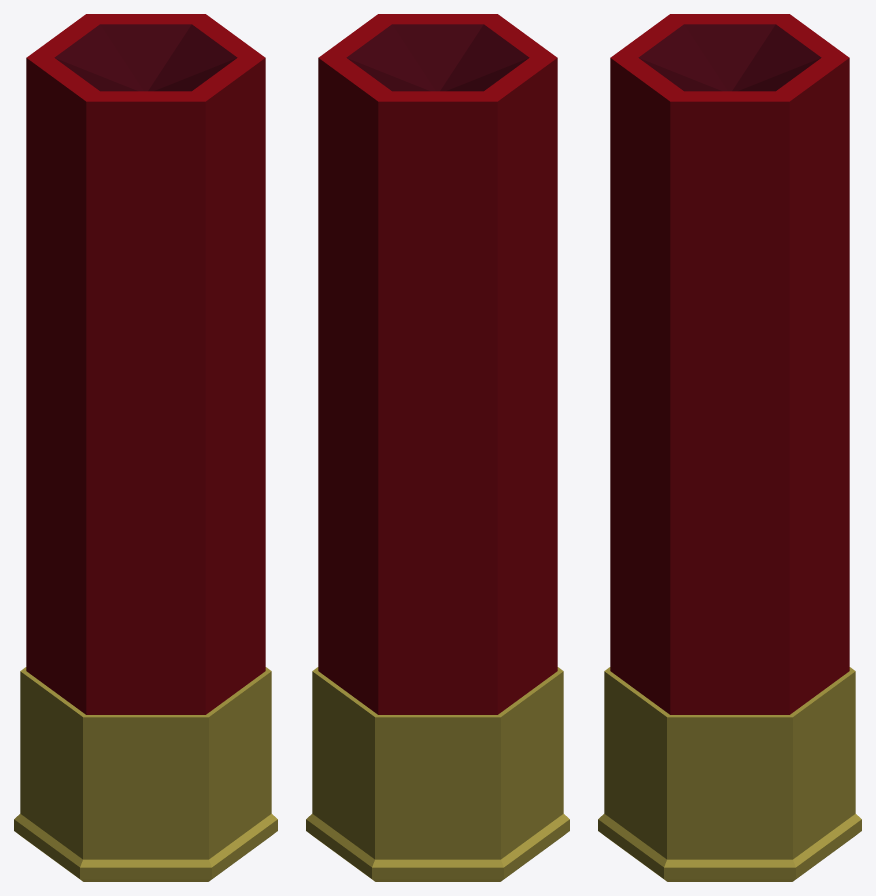
Rendered from MW1_Ammunition_12ga_01.fbx.
3 views of the same model, side by side, from view 1: azimuth 30°, elevation 25°; view 2: azimuth 150°, elevation 25°; view 3: azimuth 270°, elevation 25° (orthographic).
Visible parts, largest first — view 1: Ammunition_12ga_01; view 2: Ammunition_12ga_01; view 3: Ammunition_12ga_01.
Part boxes in pixels (x1,y1,x2,y2): Ammunition_12ga_01: (14, 14, 277, 881); Ammunition_12ga_01: (306, 14, 569, 881); Ammunition_12ga_01: (598, 14, 861, 881).
Bounding box in the file's own units: 1.7 × 6.4 × 1.96.
